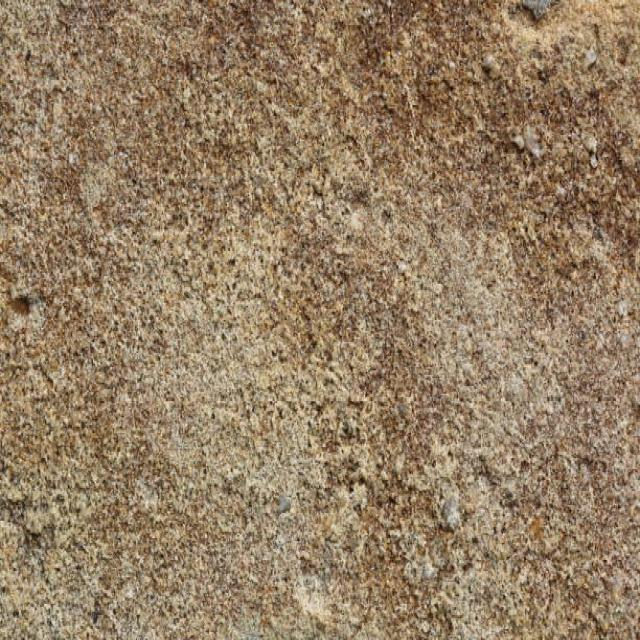Sedimentary: (2, 1, 640, 638)
